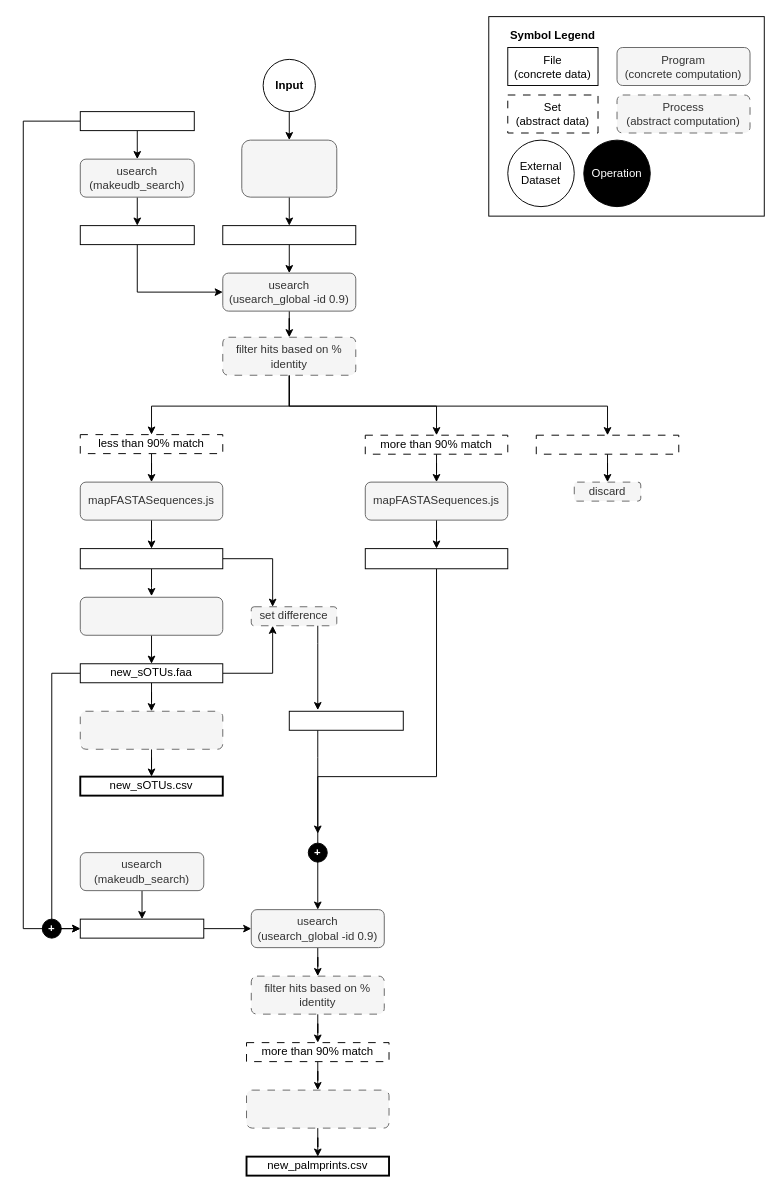
Some shapes in this 781 by 1193 pixel diagram are drawn without their labels. Each missing label, with the centre of its shape:
100% match to an sOTU: the point at 607,444
all_intact_palmprints.faa: the point at 289,235
assign new ID and nickname: the point at 151,729
assign new palmprint ID, sOTU and nickname: the point at 317,1108
existing_sOTUs.faa: the point at 136,121
existing_sOTUs.udb: the point at 136,235
new_palmprints.faa: the point at 345,720
new_sOTUs.udb: the point at 141,928
palm_annot: the point at 289,168
palmprints.gt90.faa: the point at 436,558
palmprints.lt90.faa: the point at 151,558
usearch (cluster_fast -id 0.9): the point at 151,615
